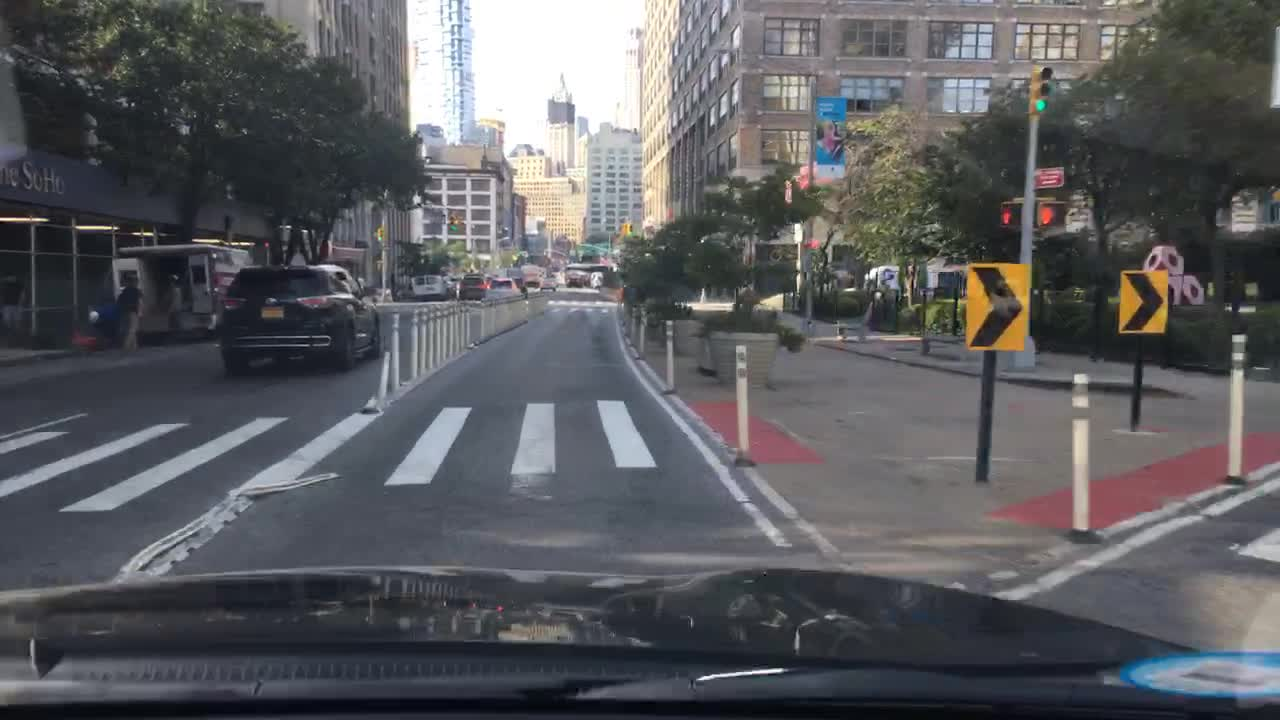car: (216, 248, 382, 371), (111, 243, 254, 333), (314, 262, 362, 298), (406, 274, 448, 298), (458, 272, 484, 300), (488, 276, 514, 297), (442, 270, 458, 298), (537, 272, 556, 293), (588, 269, 605, 287)
person: (115, 277, 145, 357), (0, 269, 24, 339), (161, 272, 184, 342)
traffic light: (1033, 62, 1054, 114), (1033, 200, 1066, 229), (996, 201, 1021, 228), (372, 228, 386, 243), (449, 212, 460, 231), (622, 221, 635, 236)
traffic sign: (969, 263, 1026, 350), (1119, 271, 1166, 333), (1035, 169, 1063, 188), (574, 245, 607, 259)
truck: (563, 269, 588, 288)
